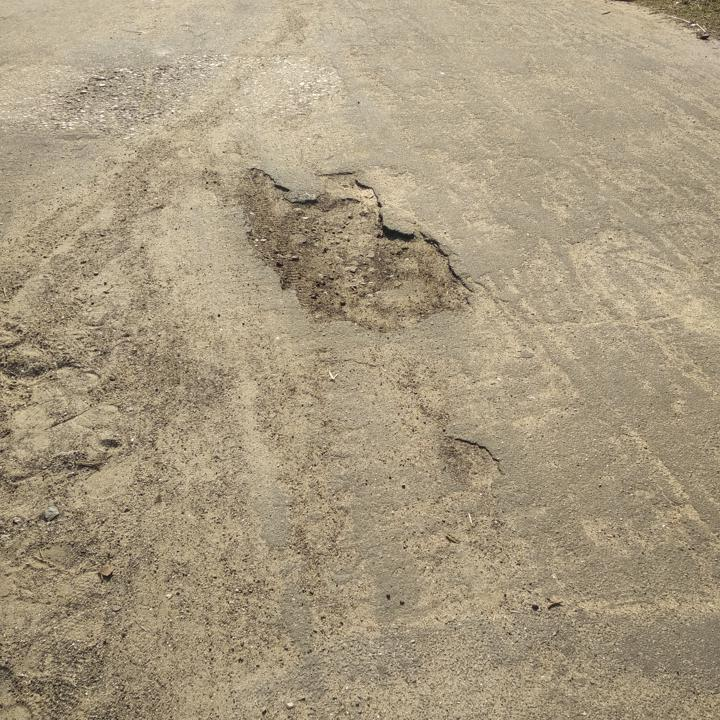pothole: (235, 164, 480, 335), (441, 433, 506, 492)
